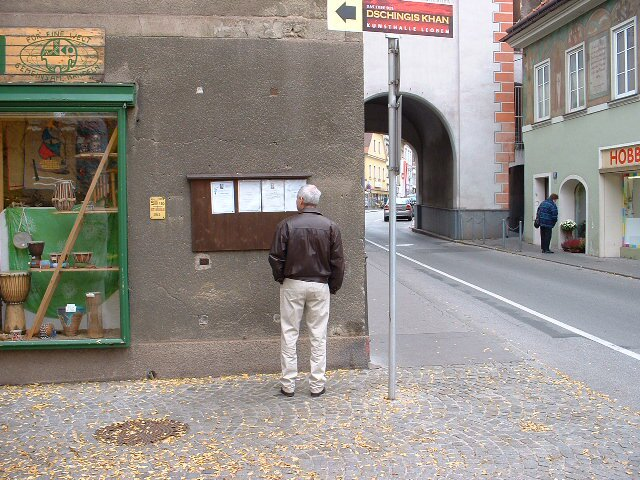person: (271, 182, 351, 404)
